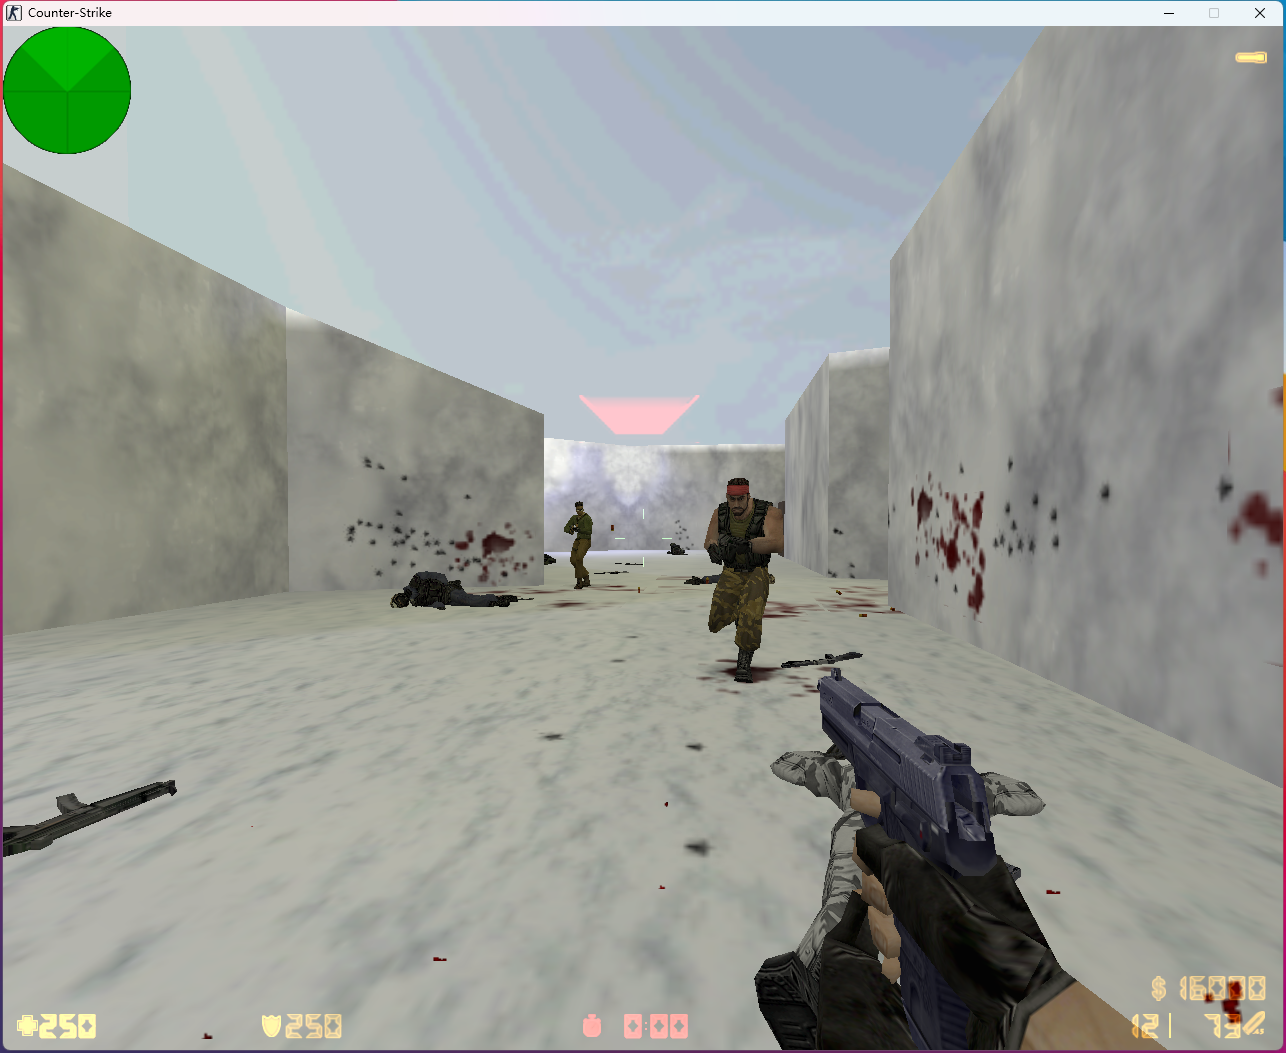T: (703, 478, 784, 683), (562, 501, 593, 591)
dead: (390, 571, 528, 613)
weapon: (1, 783, 190, 858), (781, 651, 859, 667)
